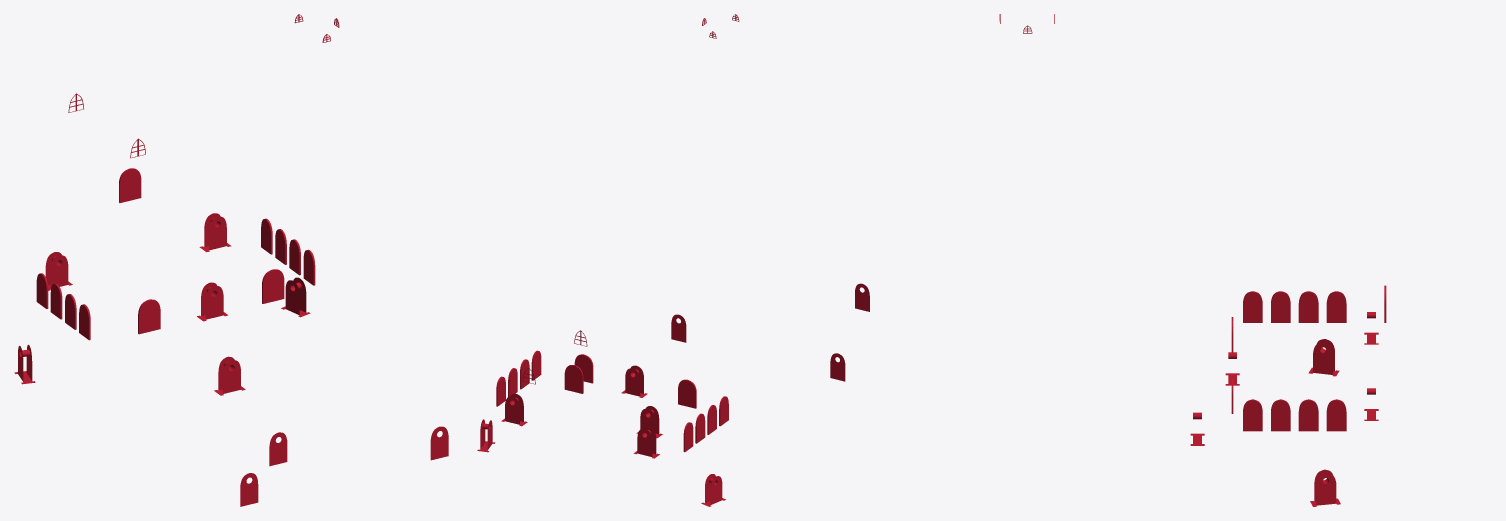
File: MaderaPuerta.fbx
3 renders of one model, left to right at view 1: azimuth 30°, elevation 25°; view 2: azimuth 150°, elevation 25°; view 3: azimuth 270°, elevation 25°, orthographic. The views are drawn at different scales.
Visible parts, largest first — view 1: Cabeza.001; view 2: Cabeza.001; view 3: Cabeza.001.
Part boxes in pixels (x1=…): Cabeza.001: x1=14, y1=14, x2=448, y2=506; Cabeza.001: x1=477, y1=14, x2=869, y2=506; Cabeza.001: x1=999, y1=14, x2=1386, y2=506.
Bounding box in the file's own units: 3637 × 5165 × 6541.
